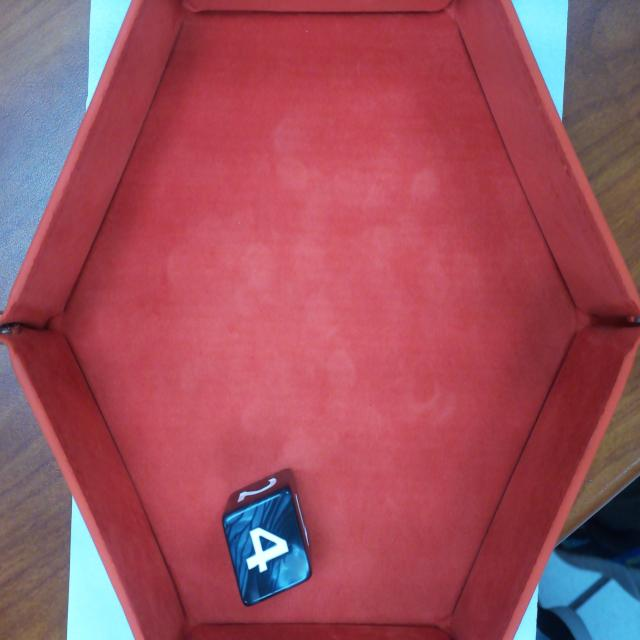dice: (224, 485, 314, 606)
